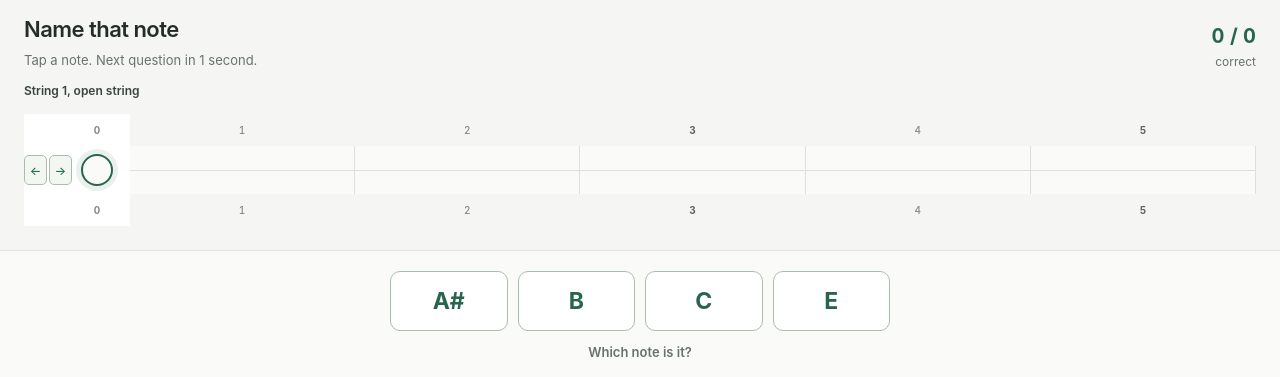
Test case: note game › shows the wrong choice in red and reveals the correct answer before advancing
Click the button "A#". click: (449, 301)
box: [390,271,508,331]
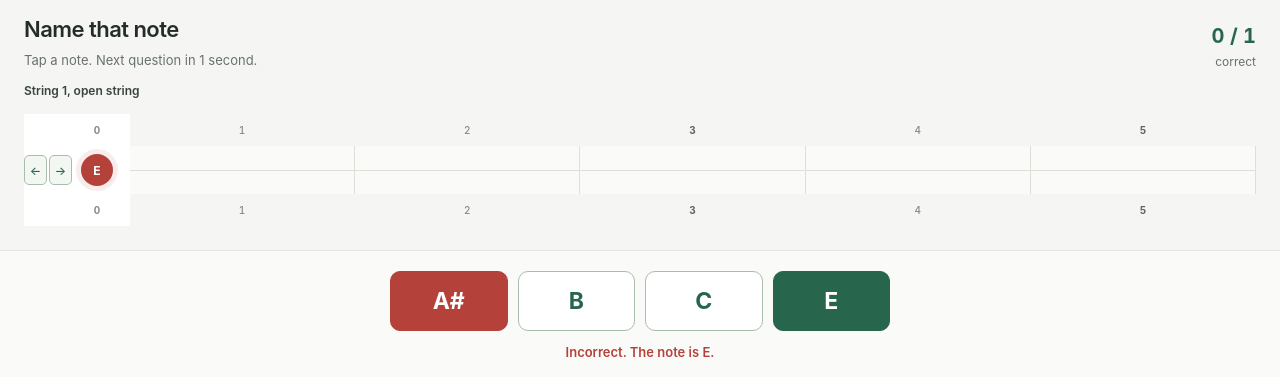
expect the button "e" is shown: met, box [74,146,120,194]
expect the message "Incorrect. The note is E." is shown: met, box [566,344,714,360]
Click the button "E". click: (831, 301)
box: [772,271,890,331]
Wait 1000 ms
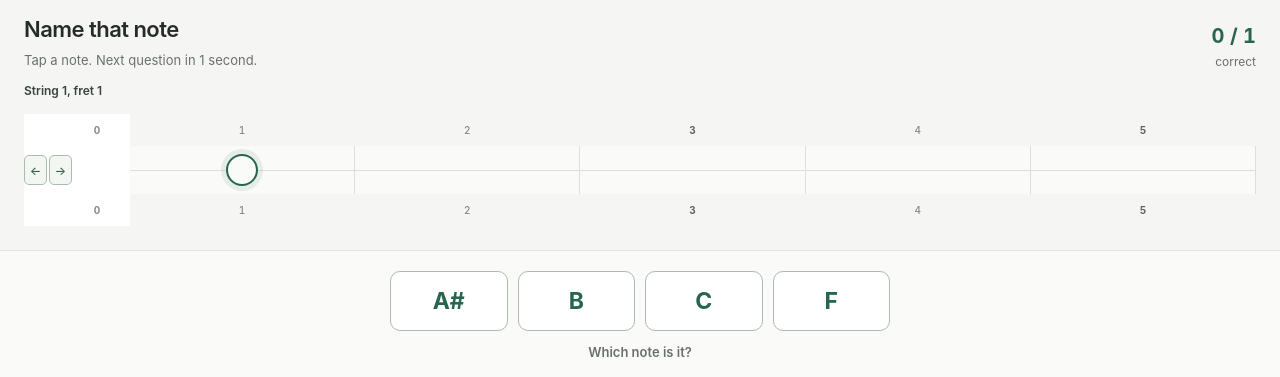
expect the button named "String 1, fret 1, note to identify" is empty: met, box [130,146,355,194]
expect the element showing "0 / 1 correct" is shown: met, box [1212,16,1256,71]
expect the message "Which note is it?" is shown: met, box [588,344,692,360]
